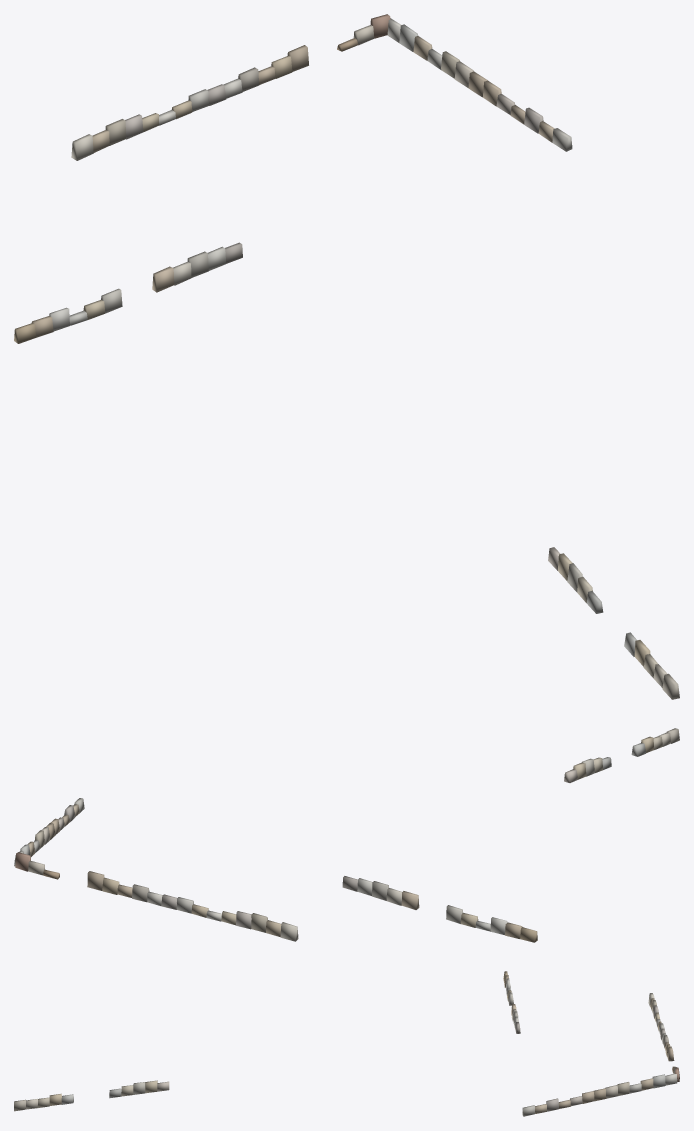
Rendered from farm_7_36_far.glb.
3 renders of one model, top to bottom at view 1: azimuth 30°, elevation 25°; view 2: azimuth 150°, elevation 25°; view 3: azimuth 270°, elevation 25°, orthographic. The views are drawn at different scales.
Parts seen in each view (by area): view 1: geometry_0; view 2: geometry_0; view 3: geometry_0.
Part boxes in pixels (left/top/right/bottom): geometry_0: left=14, top=14, right=679, bottom=699; geometry_0: left=14, top=728, right=679, bottom=942; geometry_0: left=14, top=971, right=679, bottom=1116.
Size of the model in its own units: 50.27 by 16.95 by 86.66.
